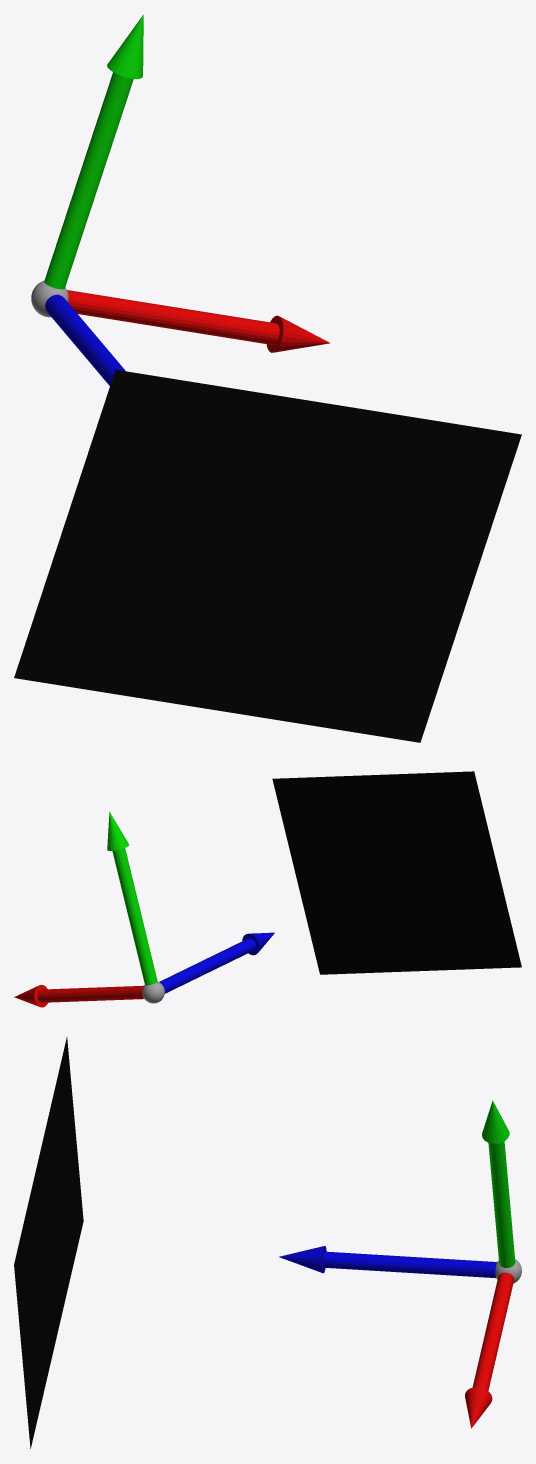
3 views of the same model, one above another, from view 1: azimuth 30°, elevation 25°; view 2: azimuth 150°, elevation 25°; view 3: azimuth 270°, elevation 25° (orthographic). The views are drawn at different scales.
Size of the model in its own units: 0.2651 by 0.2147 by 0.2725.
